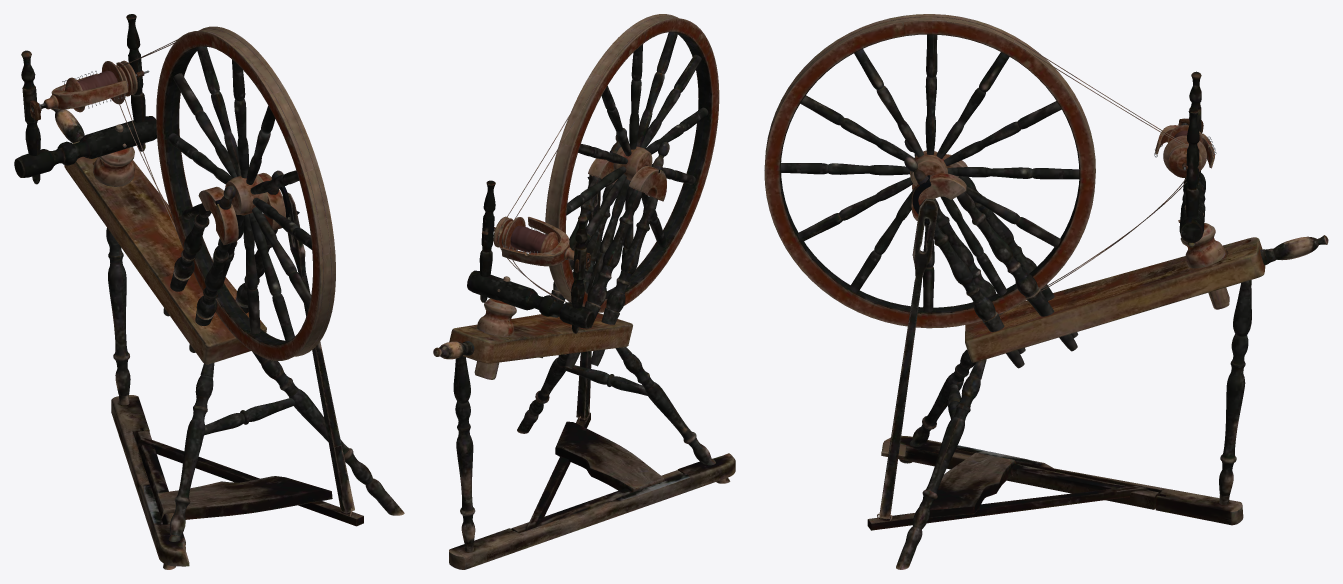
File: spinning_wheel_01.glb
The picture shows the model from 3 angles, left to right: view 1: azimuth 30°, elevation 25°; view 2: azimuth 150°, elevation 25°; view 3: azimuth 270°, elevation 25°; orthographic projection. The views are drawn at different scales.
Visible parts, largest first — view 1: spinning_wheel_01; view 2: spinning_wheel_01; view 3: spinning_wheel_01.
Part boxes in pixels (x1,y1,x2,y2): spinning_wheel_01: [14, 14, 404, 569]; spinning_wheel_01: [433, 14, 735, 569]; spinning_wheel_01: [764, 14, 1328, 569].
Bounding box in the file's own units: 0.4893 × 0.9662 × 1.02.
1 material, 1 textured.
